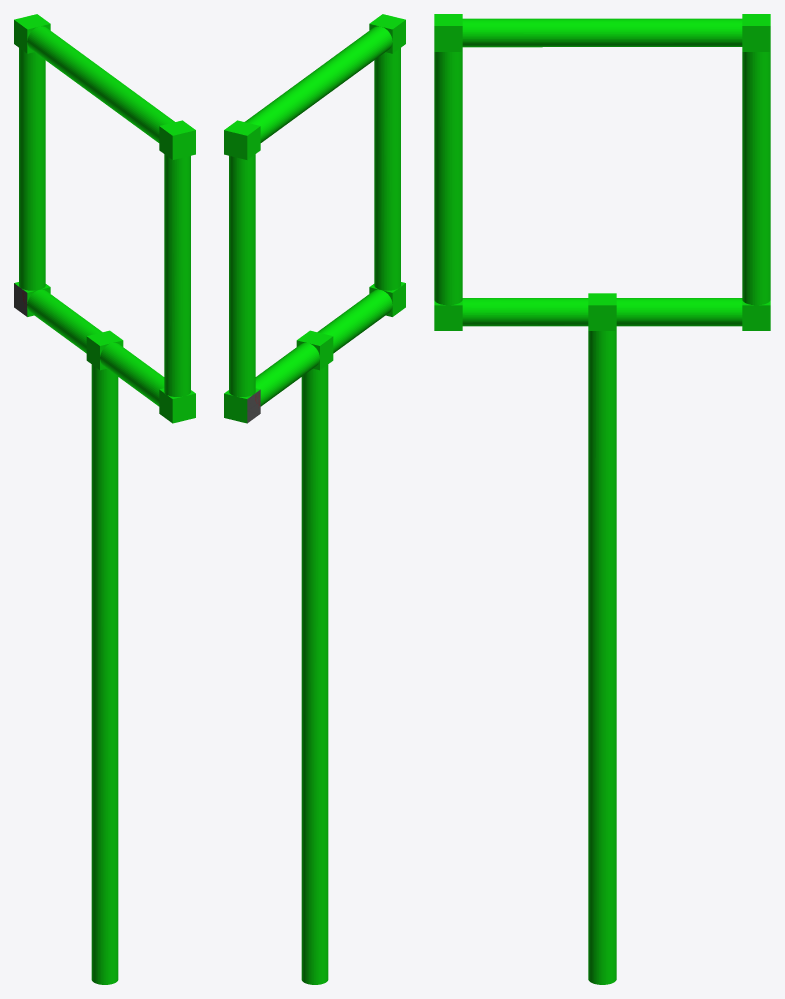
The model's file is obstacle.dae.
3 renders of one model, left to right at view 1: azimuth 30°, elevation 25°; view 2: azimuth 150°, elevation 25°; view 3: azimuth 270°, elevation 25°, orthographic. The views are drawn at different scales.
Parts seen in each view (by area): view 1: obstacle; view 2: obstacle; view 3: obstacle.
Part boxes in pixels (bbox=[...]): obstacle: bbox=[14, 14, 195, 984]; obstacle: bbox=[224, 14, 405, 984]; obstacle: bbox=[434, 14, 770, 984].
Size of the model in its own units: 0.049 by 0.579 by 1.82.
2 materials, 1 textured.
